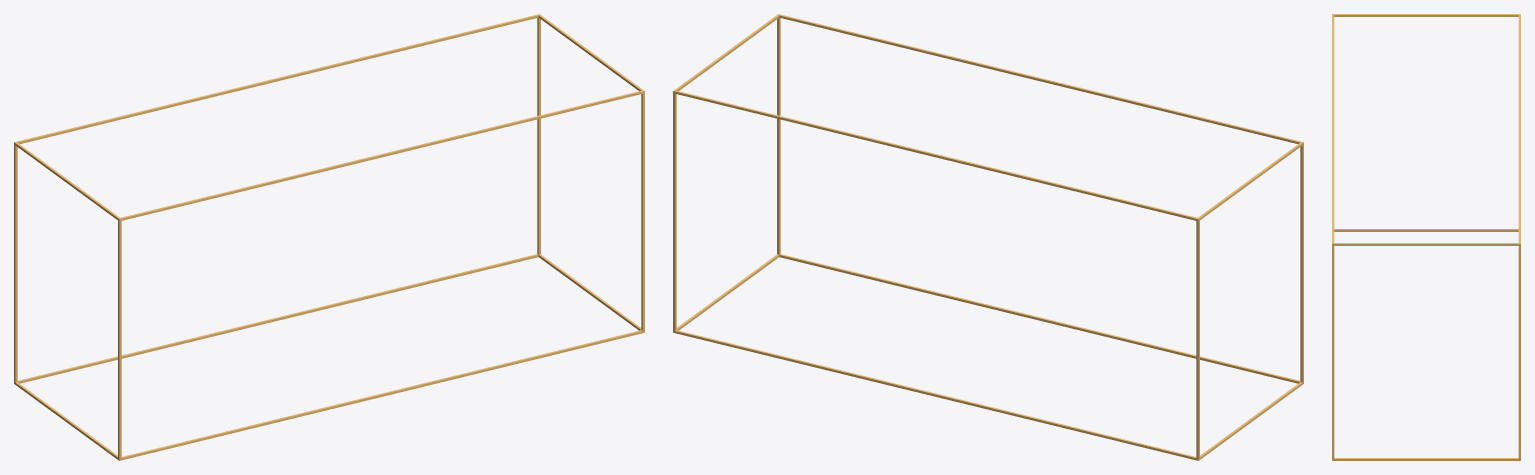
File: tools.glb
3 views of the same model, side by side, from view 1: azimuth 30°, elevation 25°; view 2: azimuth 150°, elevation 25°; view 3: azimuth 270°, elevation 25° (orthographic). The views are drawn at different scales.
Parts seen in each view (by area): view 1: box_0; view 2: box_0; view 3: box_0.
Boxes of the visible parts, x1,y1,x2,y2 form: box_0: (14,14,644,460); box_0: (673,14,1303,460); box_0: (1332,14,1520,460).
Size of the model in its own units: 2.44 by 1.07 by 0.8467.
